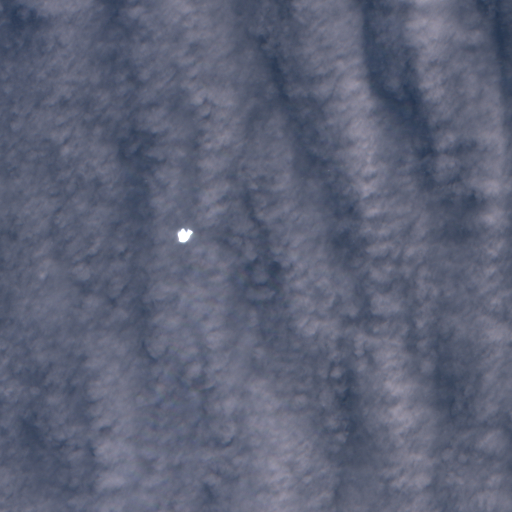Iceberg: (177, 228, 192, 242)
